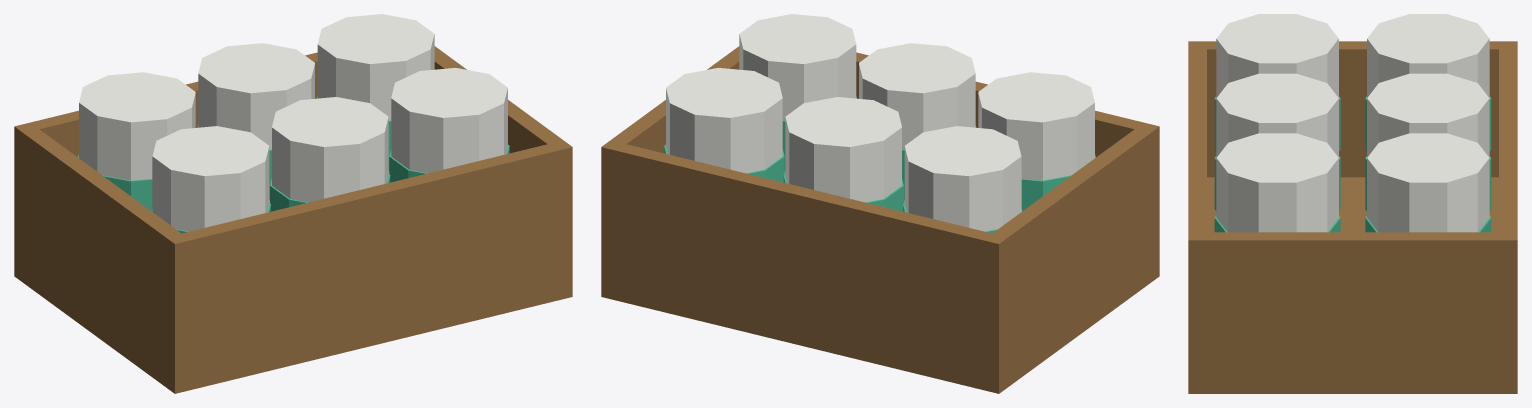
The model's file is floss_reels.glb.
3 views of the same model, side by side, from view 1: azimuth 30°, elevation 25°; view 2: azimuth 150°, elevation 25°; view 3: azimuth 270°, elevation 25° (orthographic). The views are drawn at different scales.
Visible parts, largest first — view 1: side_crate_wood, reel_floss_white (×6), bottom_crate_wood, label_floss_mint (×3); view 2: side_crate_wood, reel_floss_white (×6), bottom_crate_wood, label_floss_mint (×3); view 3: side_crate_wood, reel_floss_white (×6), bottom_crate_wood.
Boxes of the visible parts, left/top/right/bottom form: side_crate_wood: left=14, top=46, right=572, bottom=391; reel_floss_white (×6): left=79, top=14, right=507, bottom=231; bottom_crate_wood: left=14, top=251, right=572, bottom=393; label_floss_mint (×3): left=78, top=144, right=509, bottom=211; side_crate_wood: left=601, top=46, right=1159, bottom=390; reel_floss_white (×6): left=666, top=14, right=1094, bottom=231; bottom_crate_wood: left=601, top=251, right=1159, bottom=393; label_floss_mint (×3): left=664, top=144, right=1095, bottom=211; side_crate_wood: left=1188, top=41, right=1517, bottom=393; reel_floss_white (×6): left=1216, top=14, right=1489, bottom=232; bottom_crate_wood: left=1188, top=177, right=1517, bottom=393.
Size of the model in its own units: 0.5 by 0.23 by 0.35.
